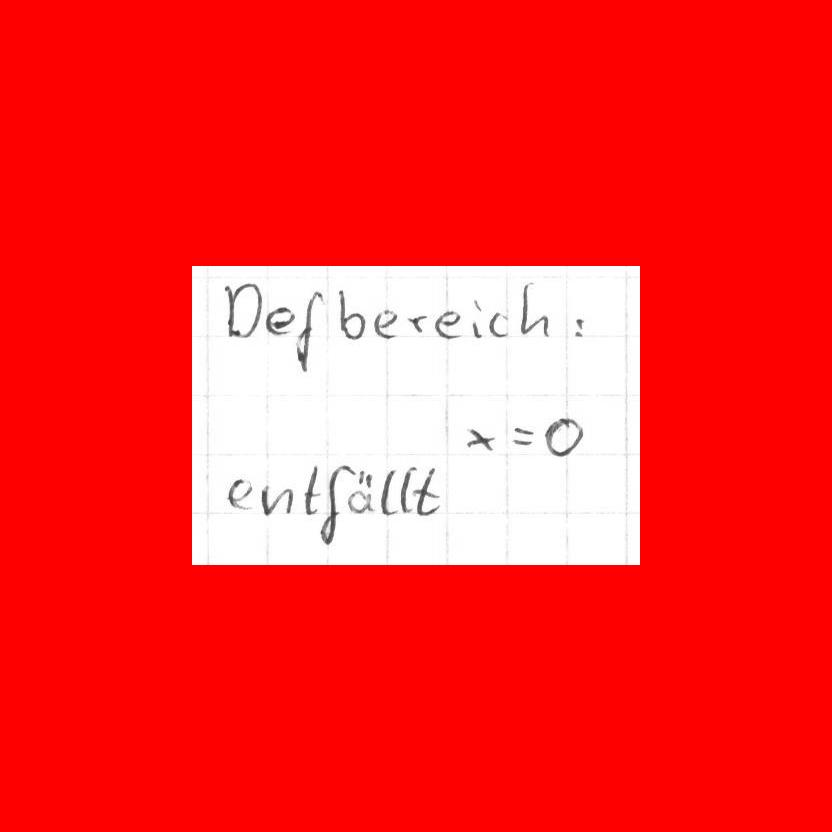Char: (293, 287, 328, 373), (319, 462, 353, 547), (222, 278, 264, 342), (336, 286, 368, 345), (520, 278, 551, 338), (542, 415, 584, 459), (411, 465, 441, 518), (344, 467, 374, 516), (259, 482, 294, 517), (225, 475, 257, 513), (301, 462, 322, 518), (262, 303, 295, 337), (465, 424, 500, 454), (432, 307, 462, 340), (399, 464, 418, 515), (371, 304, 397, 340), (379, 467, 397, 517), (506, 425, 535, 447), (406, 310, 429, 336), (487, 310, 509, 336), (470, 293, 482, 340), (569, 315, 586, 339)
